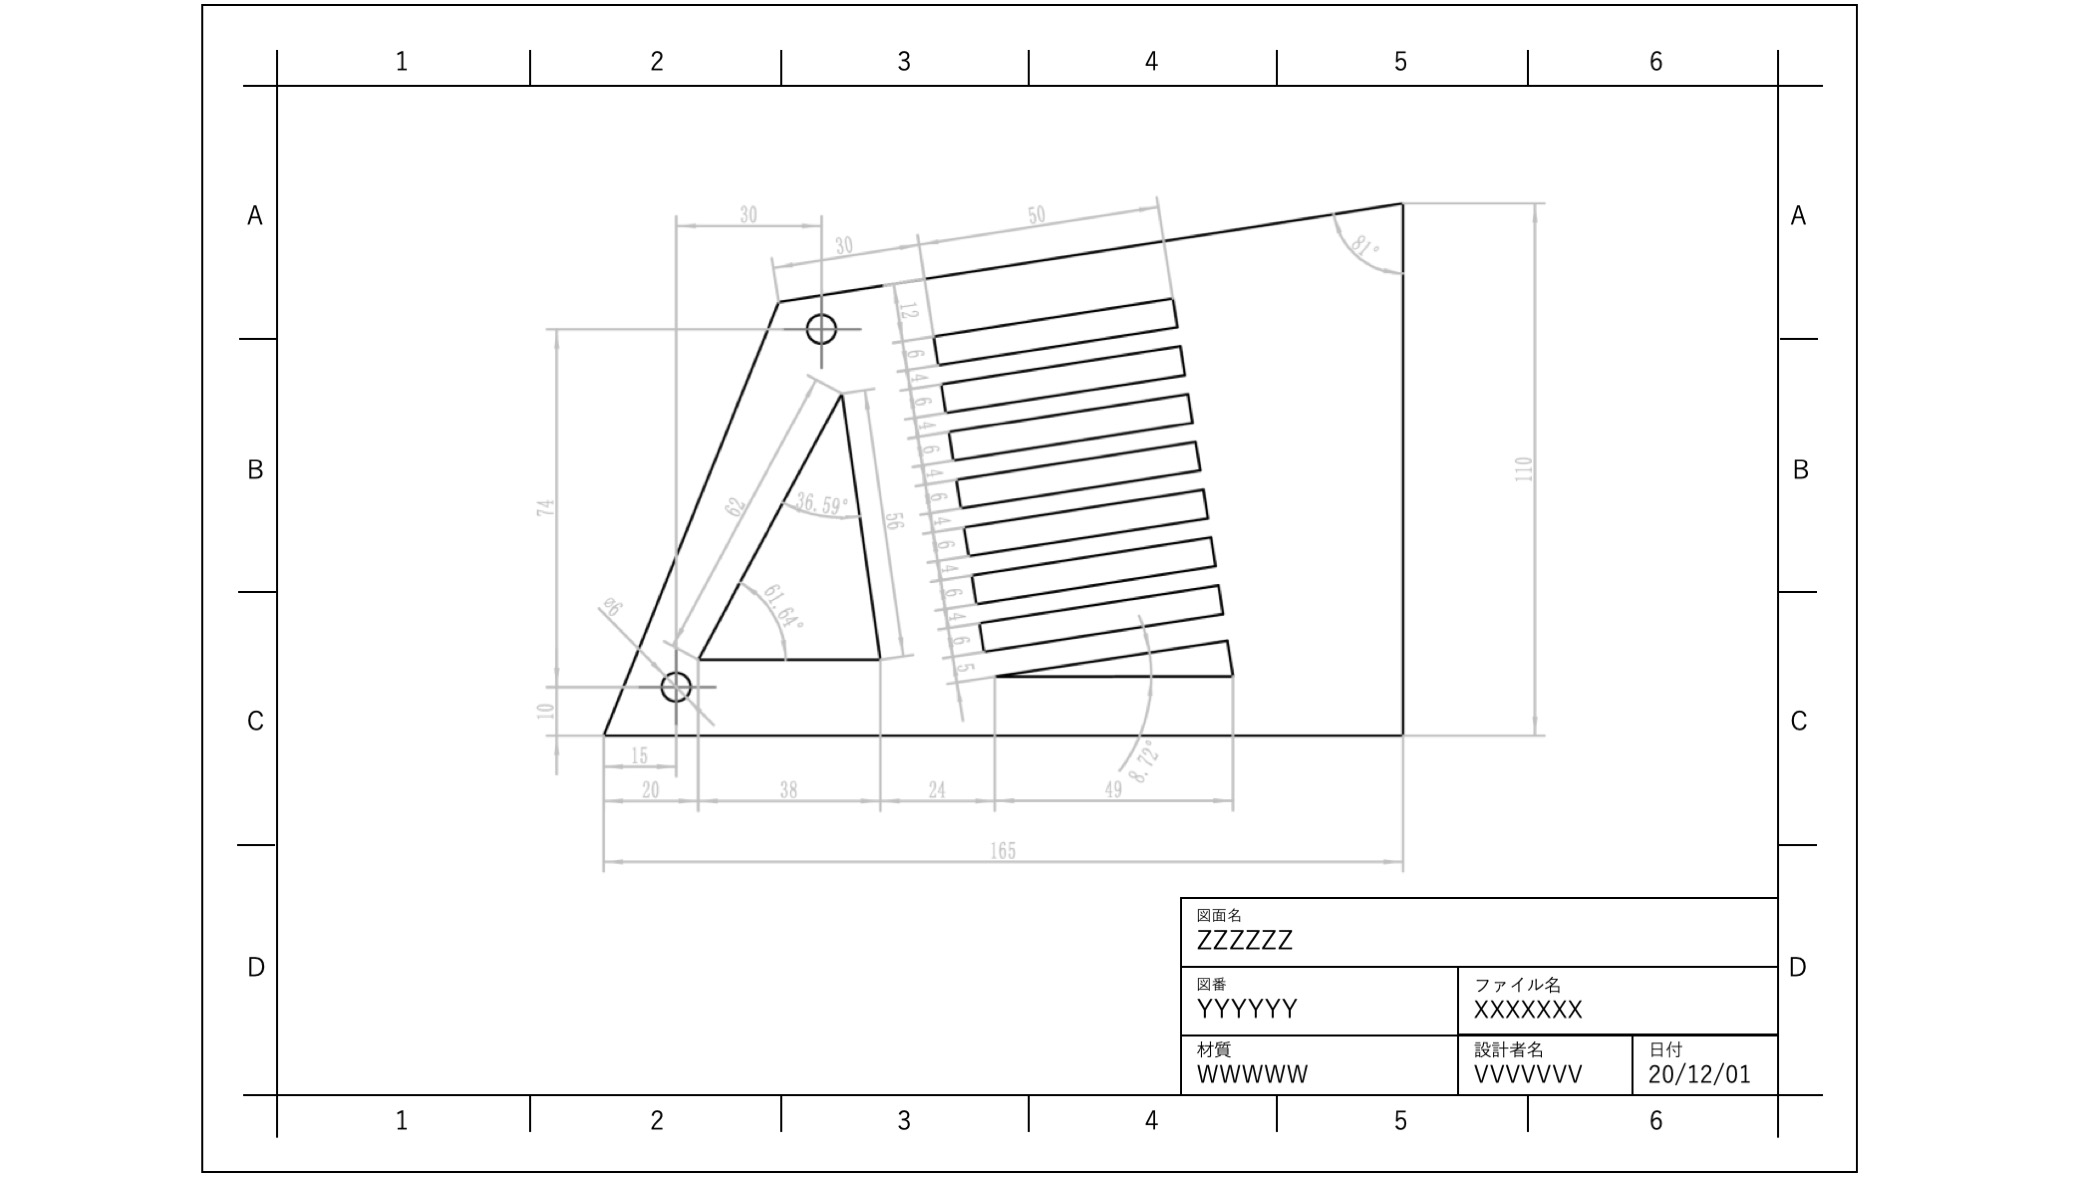circle: (800, 304, 841, 345), (655, 665, 695, 704)
rectangle: (942, 384, 1199, 461), (937, 335, 1191, 412), (963, 531, 1222, 607), (959, 482, 1214, 557), (976, 577, 1229, 652), (933, 286, 1183, 356), (952, 433, 1206, 502)
triangle: (694, 392, 884, 668), (992, 636, 1237, 681)
